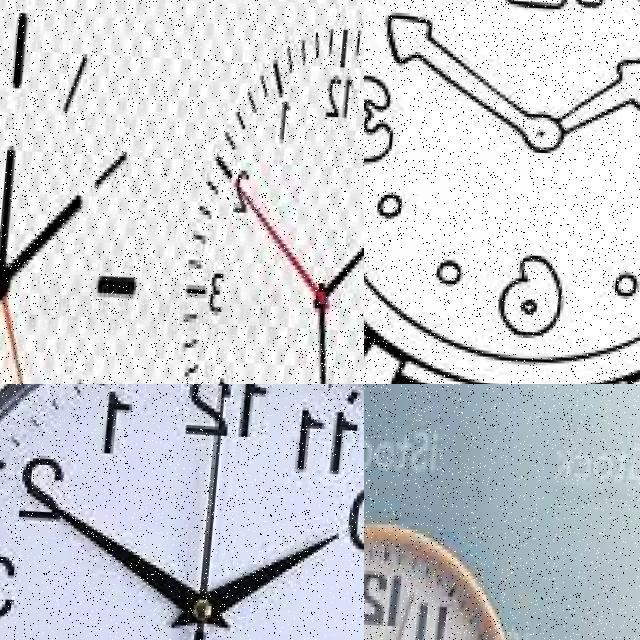Clocks-images: (365, 1, 640, 385), (1, 385, 365, 640), (172, 18, 365, 385), (1, 2, 165, 385), (365, 515, 545, 640)
